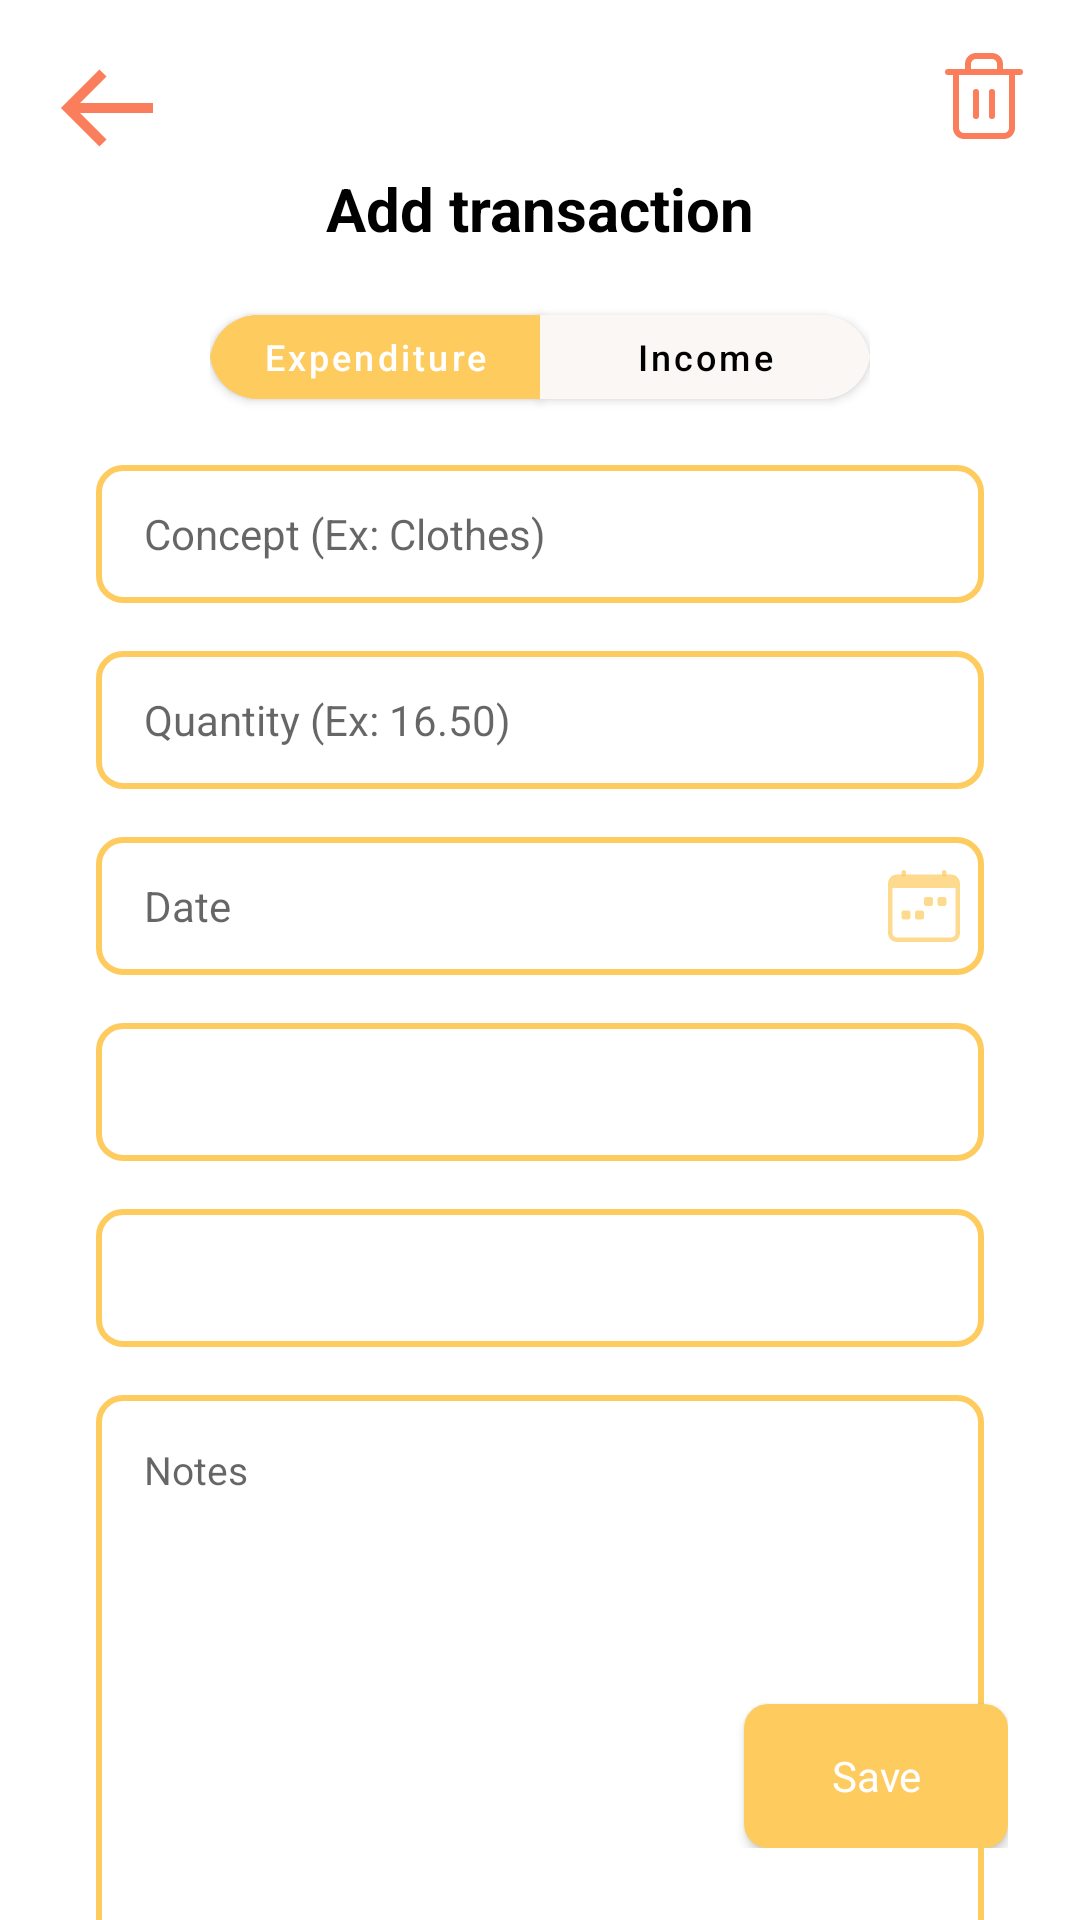

Icons on this 1080x1920 Android screen, each with the point to tap as (x=x, y=y):
back: (x=107, y=108)
trash: (x=984, y=96)
